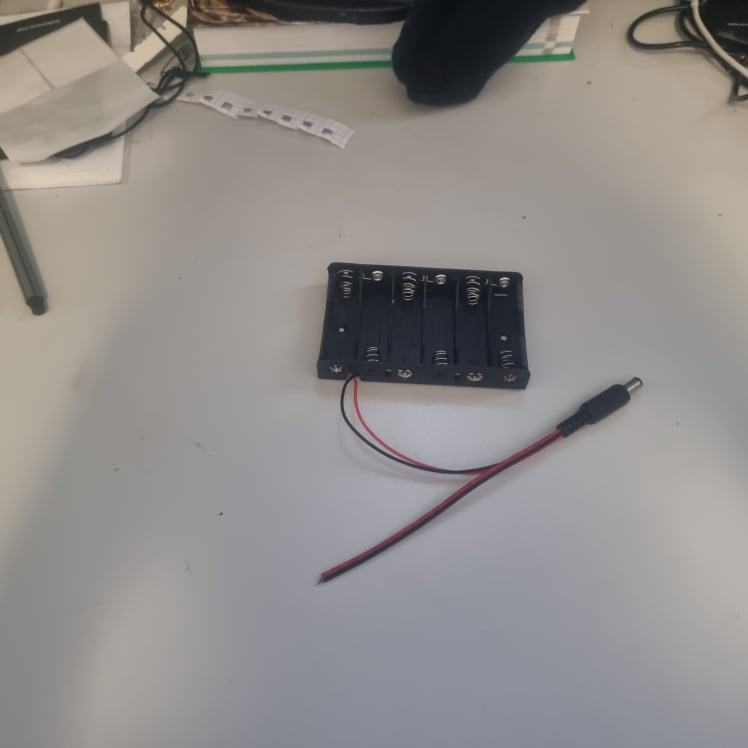BATTERY BOX: (316, 261, 532, 391)
